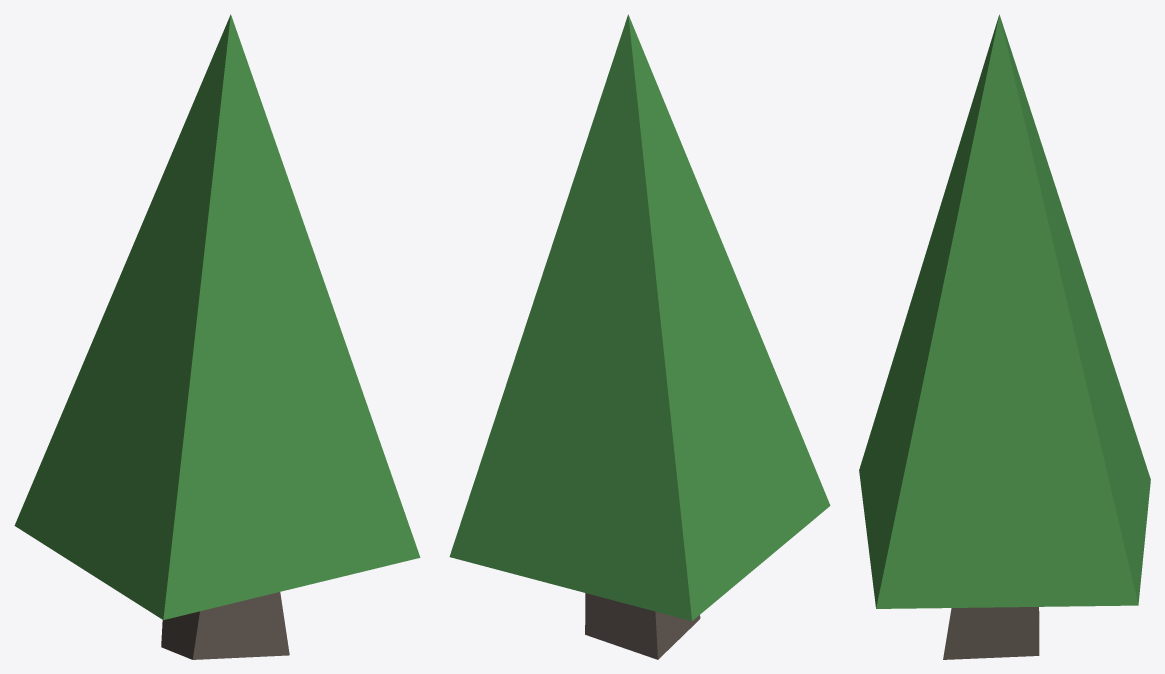
File: Tree_2.obj
3 renders of one model, left to right at view 1: azimuth 30°, elevation 25°; view 2: azimuth 150°, elevation 25°; view 3: azimuth 270°, elevation 25°, orthographic. The views are drawn at different scales.
Parts seen in each view (by area): view 1: pPyramid1, pCube1; view 2: pPyramid1, pCube1; view 3: pPyramid1, pCube1.
Boxes of the visible parts, x1=… form: pPyramid1: x1=14, y1=14, x2=420, y2=619; pCube1: x1=161, y1=592, x2=289, y2=659; pPyramid1: x1=449, y1=14, x2=830, y2=620; pCube1: x1=585, y1=593, x2=700, y2=659; pPyramid1: x1=859, y1=14, x2=1150, y2=608; pCube1: x1=943, y1=607, x2=1039, y2=659.
Size of the model in its own units: 11.66 by 26.29 by 10.9.
